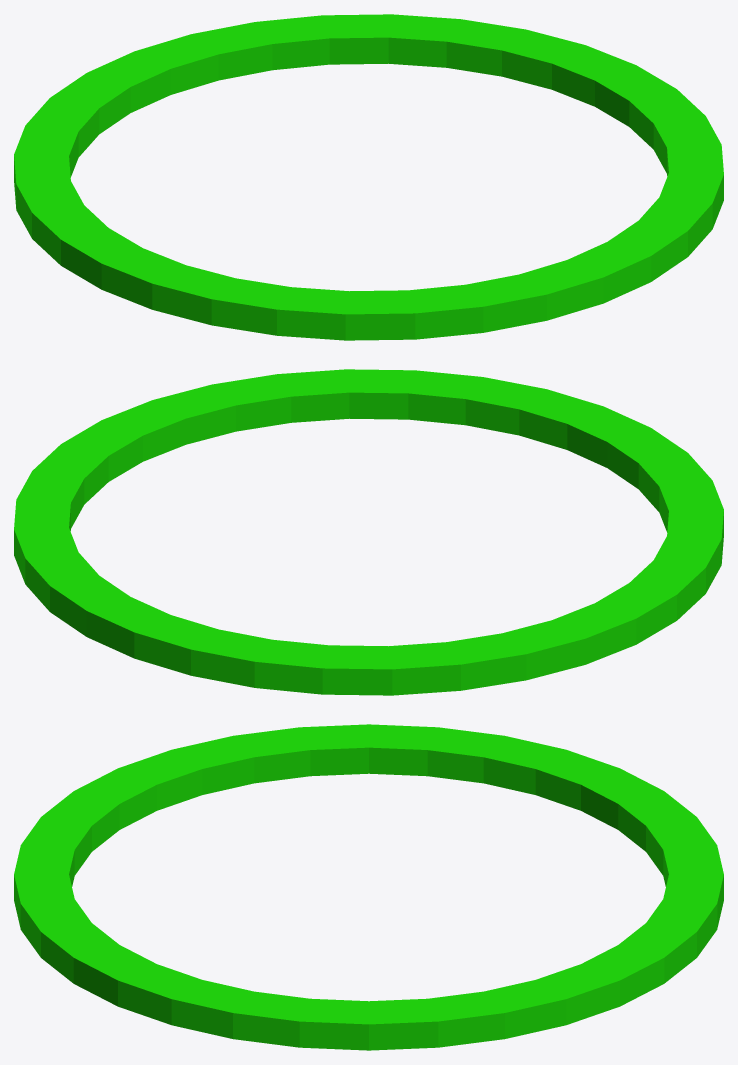
Rendered from target.glb.
3 views of the same model, one above another, from view 1: azimuth 30°, elevation 25°; view 2: azimuth 150°, elevation 25°; view 3: azimuth 270°, elevation 25° (orthographic).
Parts seen in each view (by area): view 1: Cylinder; view 2: Cylinder; view 3: Cylinder.
Part boxes in pixels (bbox=[...]): Cylinder: bbox=[14, 14, 723, 340]; Cylinder: bbox=[14, 369, 723, 695]; Cylinder: bbox=[14, 724, 723, 1050].
Size of the model in its own units: 1.44 by 0.0584 by 1.44.
